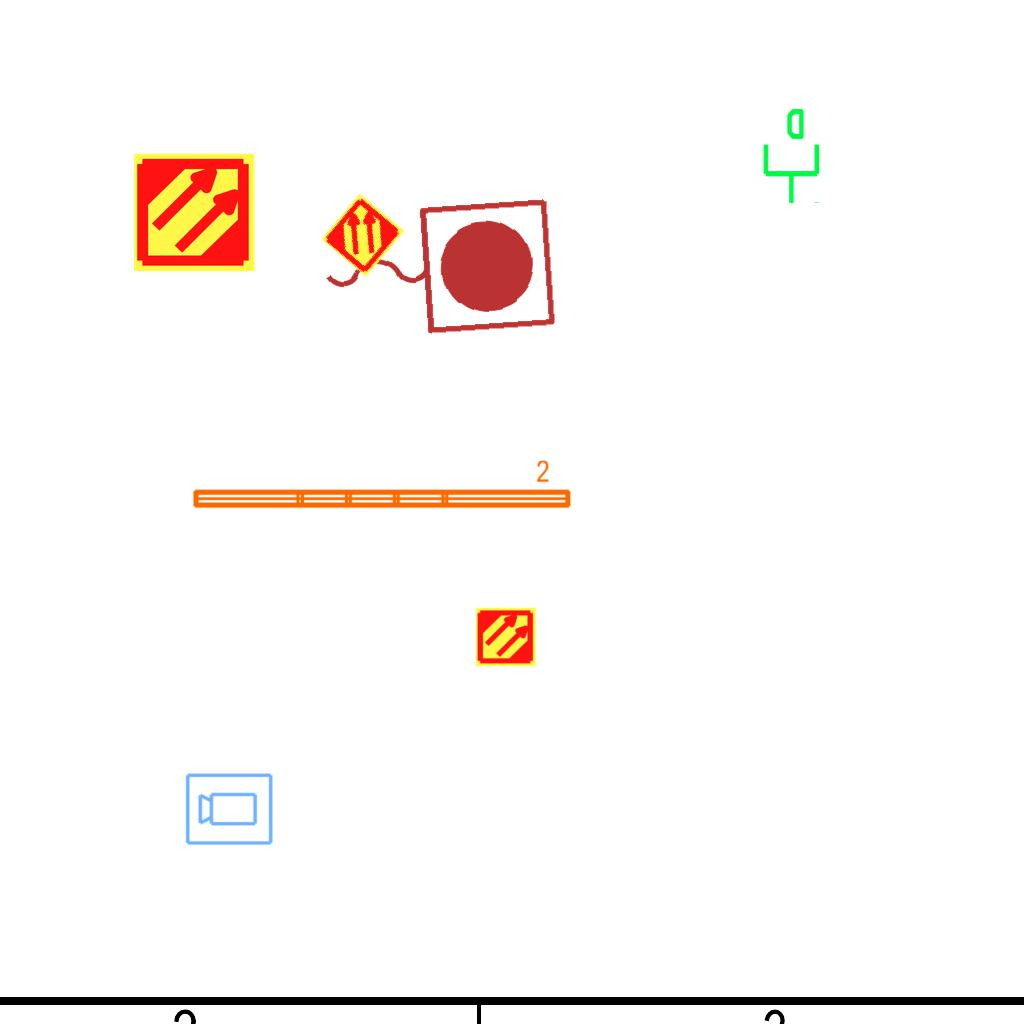ASR_Ansaugrauchmelder: (132, 150, 257, 275), (319, 191, 407, 279), (475, 606, 537, 668)
Ambulanz_Pendelleuchte_LED: (188, 458, 575, 514)
Datenanschluss_einfach: (755, 106, 824, 206)
KFO_Kamera_mit_Festobjektiv: (184, 770, 275, 847)
Zugtaster: (310, 187, 564, 349)
